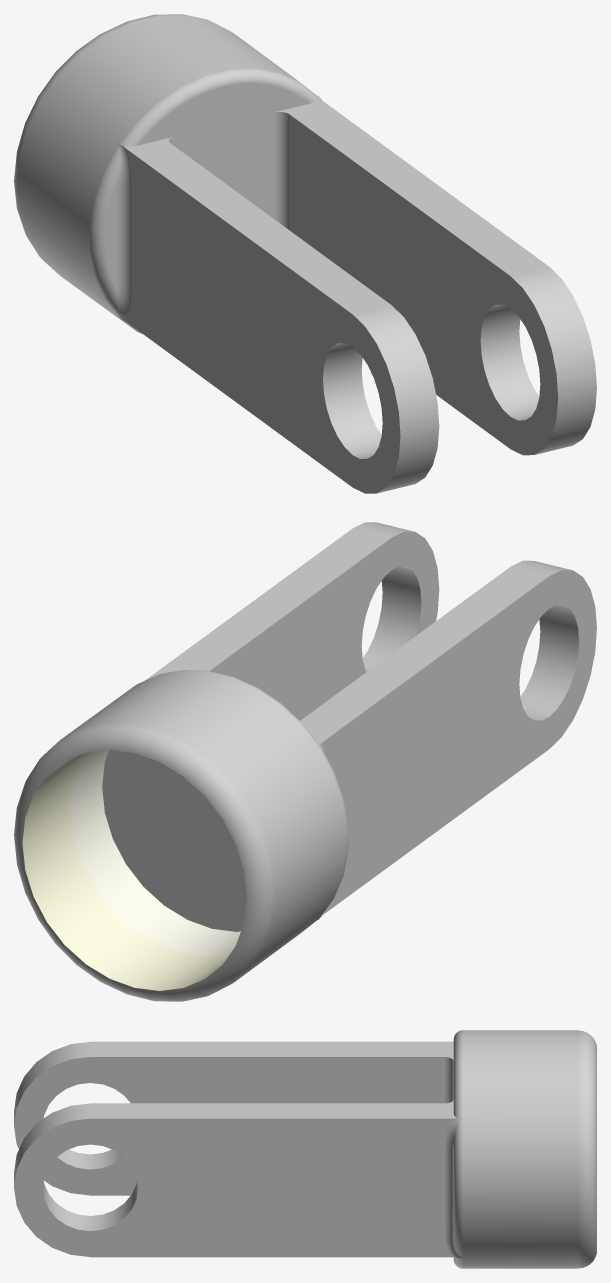
File: pulley_b.glb
The picture shows the model from 3 angles, top to bottom: view 1: azimuth 30°, elevation 25°; view 2: azimuth 150°, elevation 25°; view 3: azimuth 270°, elevation 25°; orthographic projection. The views are drawn at different scales.
Visible parts, largest first — view 1: Body1; view 2: Body1; view 3: Body1.
Boxes of the visible parts, x1,y1,x2,y2 form: Body1: [14, 14, 596, 493]; Body1: [14, 522, 596, 1001]; Body1: [14, 1030, 596, 1268].
Bounding box in the file's own units: 2.5 × 2.49 × 6.1.
